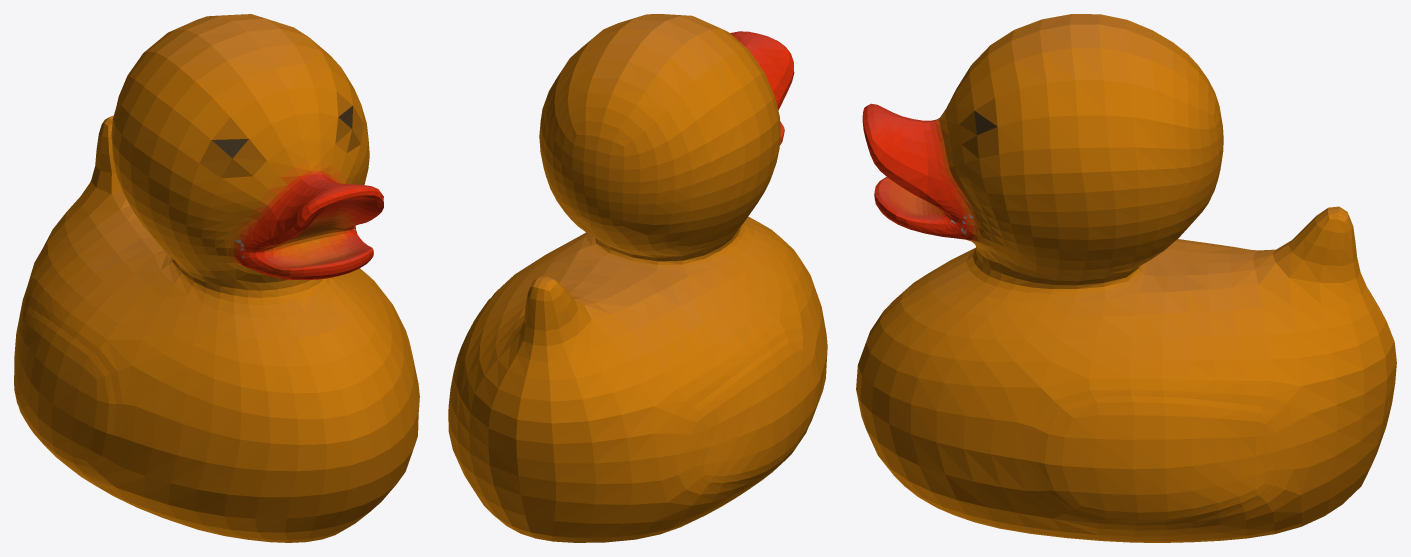
The picture shows the model from 3 angles, left to right: view 1: azimuth 30°, elevation 25°; view 2: azimuth 150°, elevation 25°; view 3: azimuth 270°, elevation 25°; orthographic projection. The views are drawn at different scales.
Bounding box in the file's own units: 0.9164 × 1.23 × 1.29.
